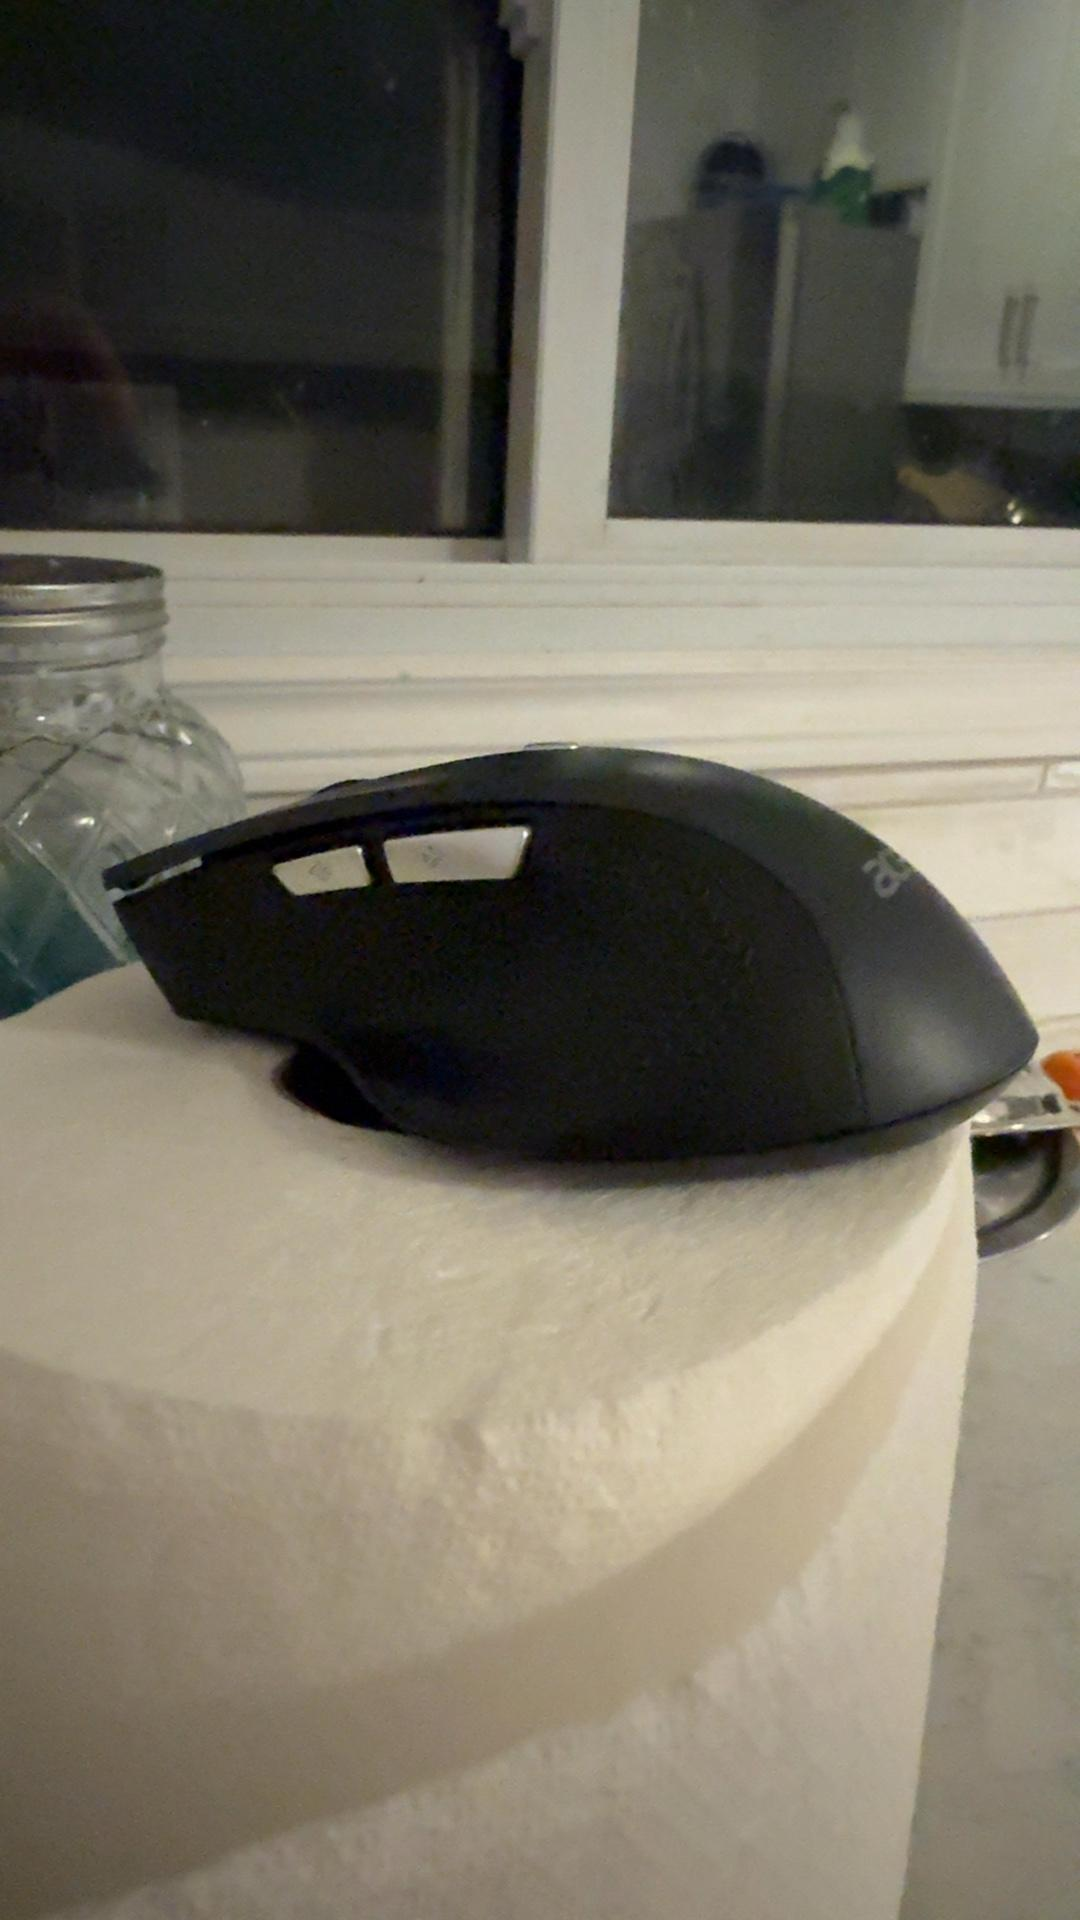Mouse: (37, 762, 1058, 1175)
